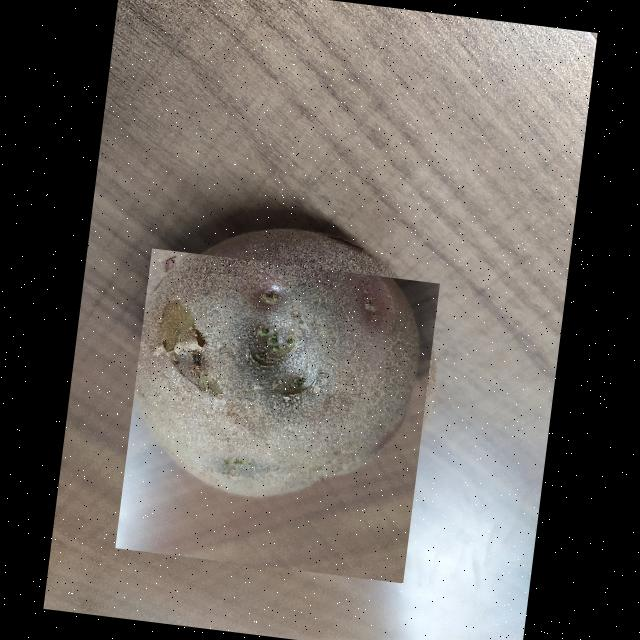Damaged potato: (114, 247, 440, 582)
